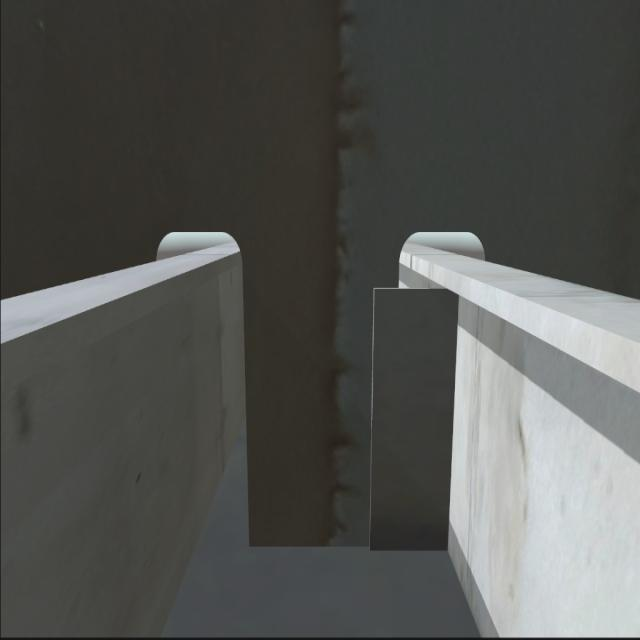fillet_yong_jeop_jang: (245, 524, 452, 556)
longi_yong_jeop_jang: (373, 286, 456, 555), (441, 284, 456, 555)
